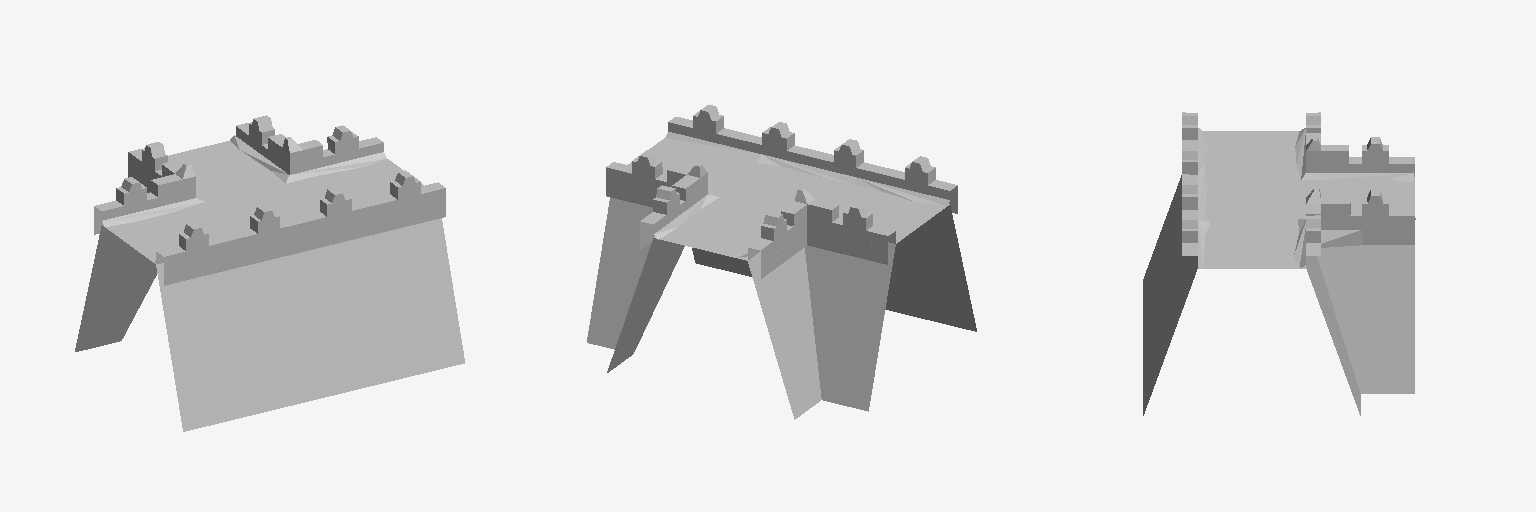
File: templeTDown_prefab.obj
3 views of the same model, side by side, from view 1: azimuth 30°, elevation 25°; view 2: azimuth 150°, elevation 25°; view 3: azimuth 270°, elevation 25° (orthographic).
Visible parts, largest first — view 1: Object83-Pivot; view 2: Object83-Pivot; view 3: Object83-Pivot.
Boxes of the visible parts, x1=… form: Object83-Pivot: x1=75, y1=115, x2=464, y2=431; Object83-Pivot: x1=587, y1=105, x2=976, y2=419; Object83-Pivot: x1=1143, y1=112, x2=1415, y2=415.
Bounding box in the file's own units: 60 × 37.27 × 50.3.